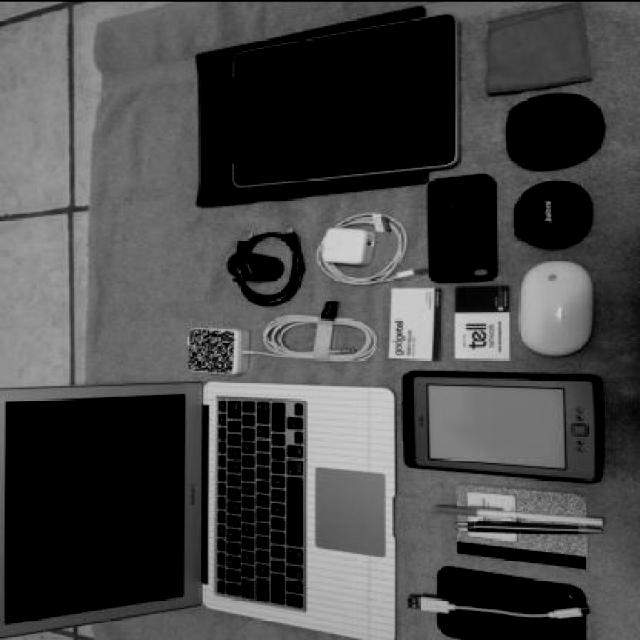fake: (404, 367, 604, 482), (439, 566, 587, 640), (426, 172, 499, 283)
